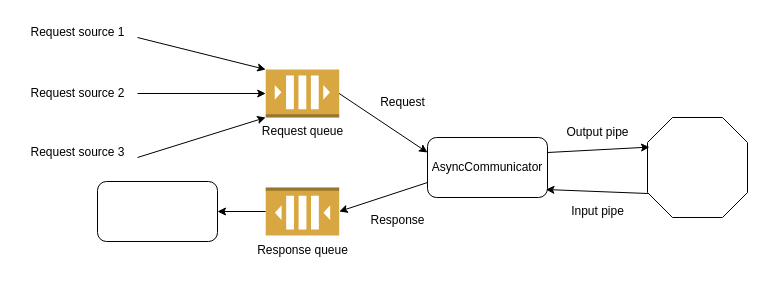
Image size: 765x282. Some labels were removed from this diagram. The shapes that lost their labels are listed below. From the top down, each one's centre as x and y in pixels, then its label:
(x=697, y=167): BlackBox
(x=157, y=211): ResponseManager
